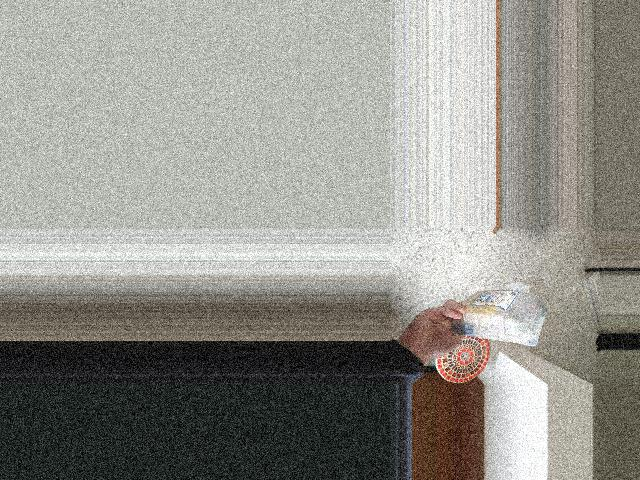cheese: (454, 289, 547, 341)
